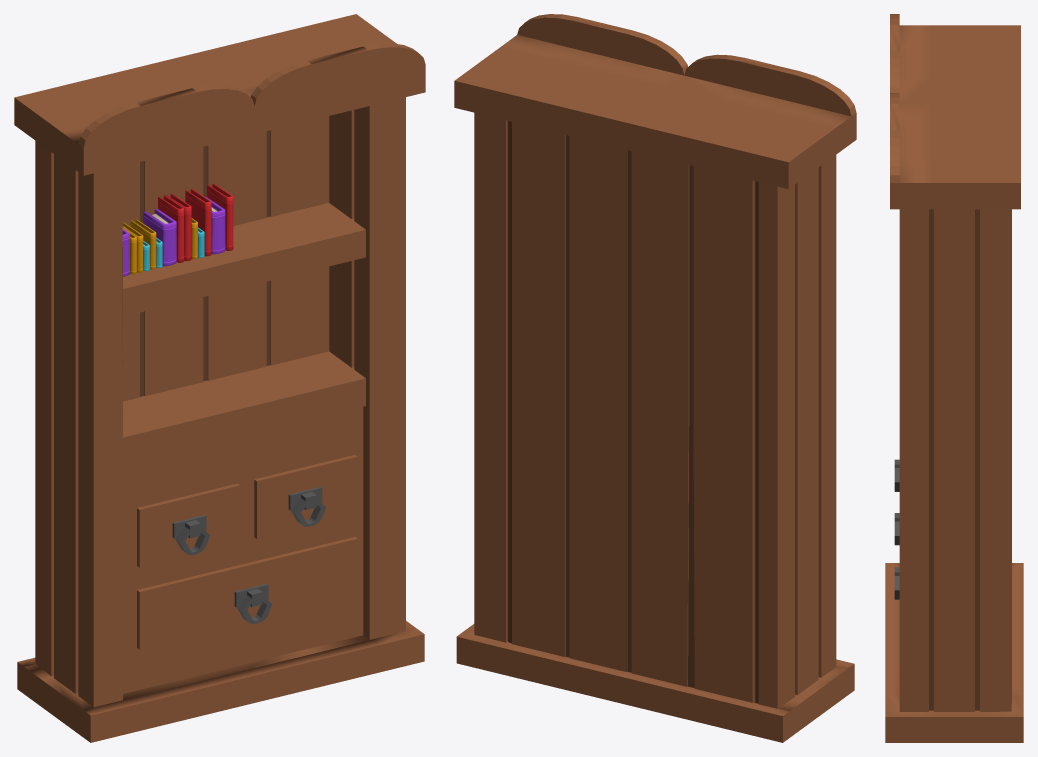
The model's file is Cabinet.fbx.
3 renders of one model, left to right at view 1: azimuth 30°, elevation 25°; view 2: azimuth 150°, elevation 25°; view 3: azimuth 270°, elevation 25°, orthographic. The views are drawn at different scales.
Visible parts, largest first — view 1: BookShelf.001, Drawer_1, Books_Line, Drawer_2, Drawer_3; view 2: BookShelf.001; view 3: BookShelf.001.
Boxes of the visible parts, box(x1,y1,x2,y2) form: BookShelf.001: box(14, 14, 425, 742); Drawer_1: box(137, 537, 357, 649); Books_Line: box(122, 183, 233, 276); Drawer_2: box(137, 483, 240, 567); Drawer_3: box(254, 455, 357, 538); BookShelf.001: box(454, 14, 856, 742); BookShelf.001: box(885, 14, 1023, 742).
Size of the model in its own units: 144 by 251 by 53.52.
